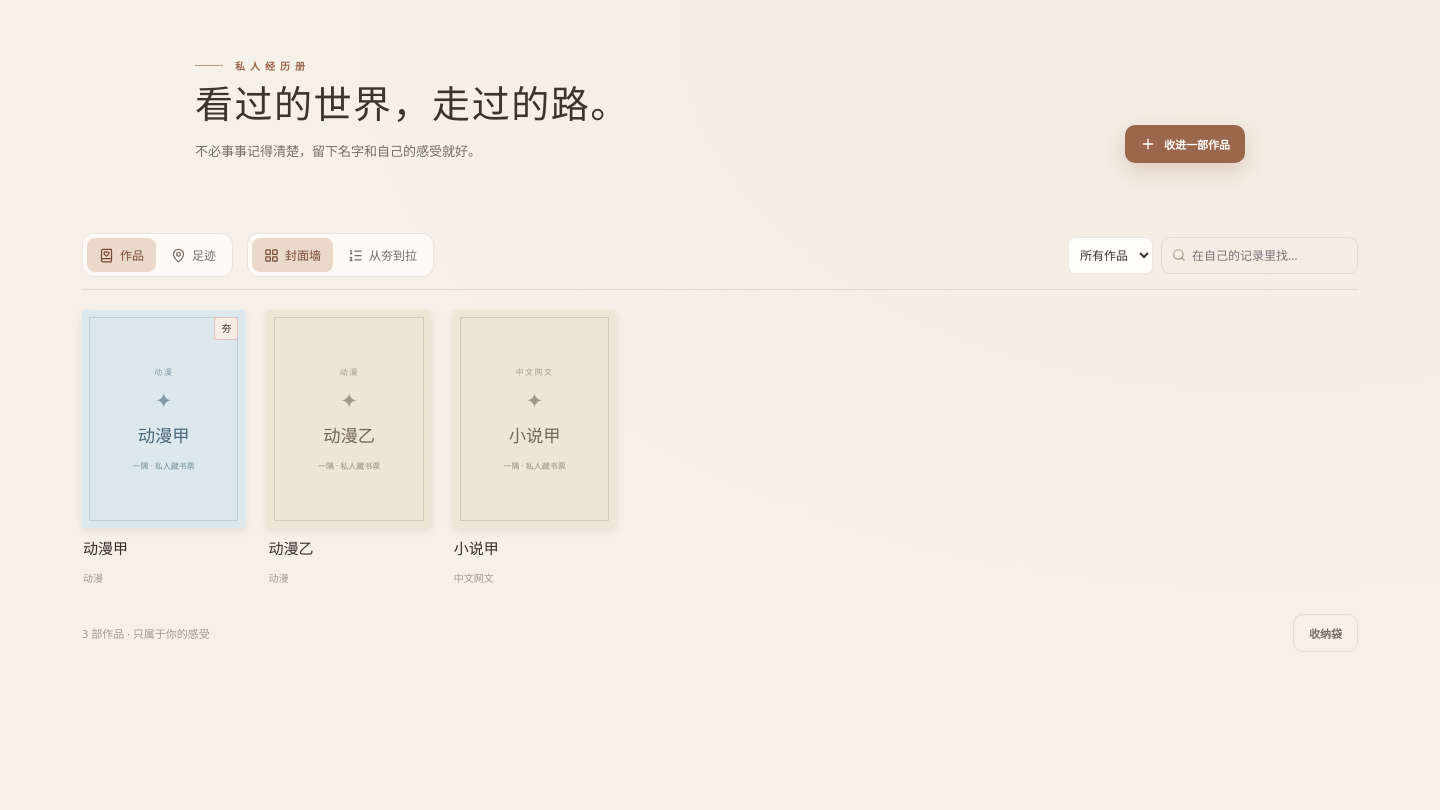
Test: experience paper cards and personal tier board › combines type and text filters in the cover wall and tier board without changing saved entries
Select "动漫" in the dropdown named "筛选作品类别" at (1110, 255), box x1=1068 y1=237 x2=1153 y2=274
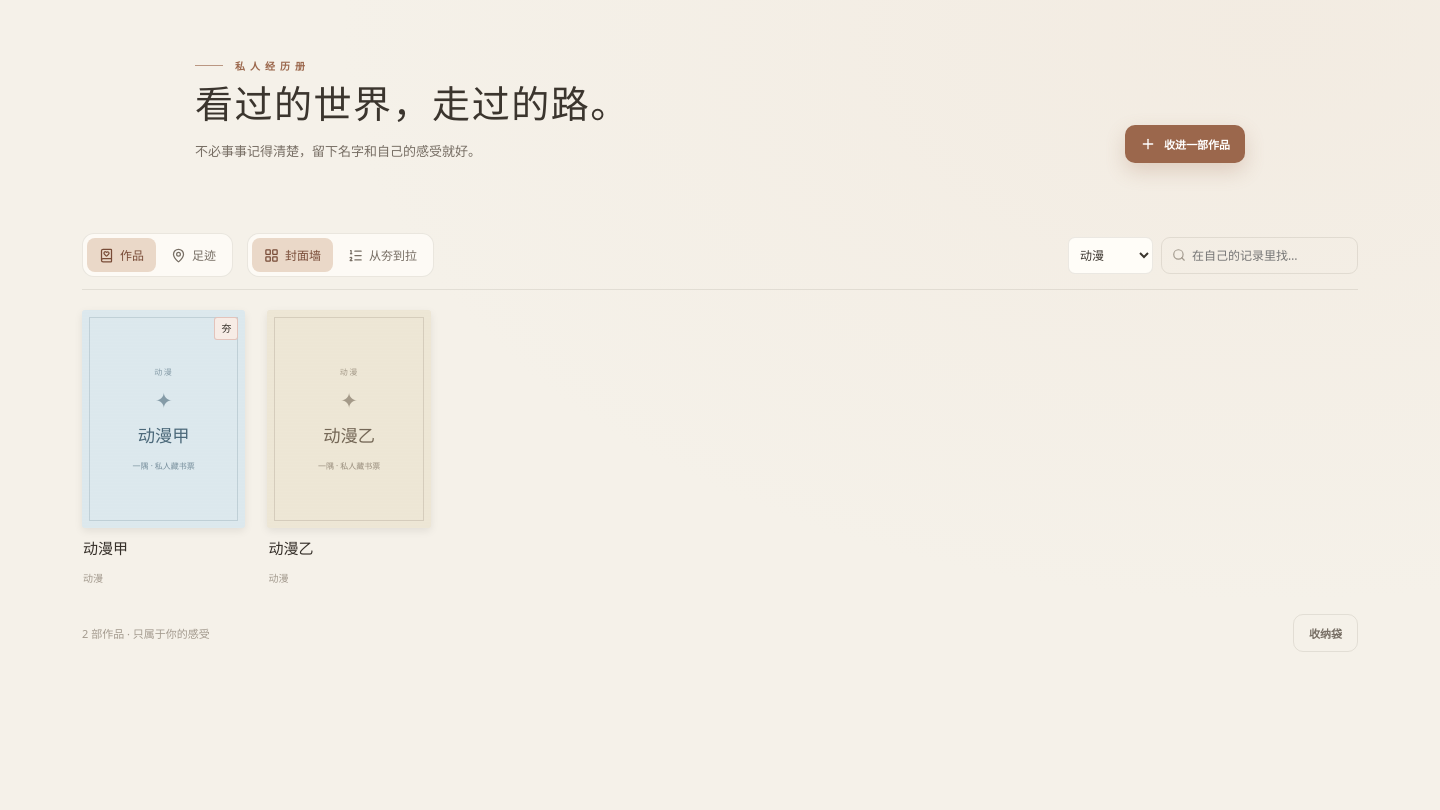
Type "甲" into the field named "搜索经历" at (1270, 255), box x1=1192 y1=238 x2=1347 y2=273
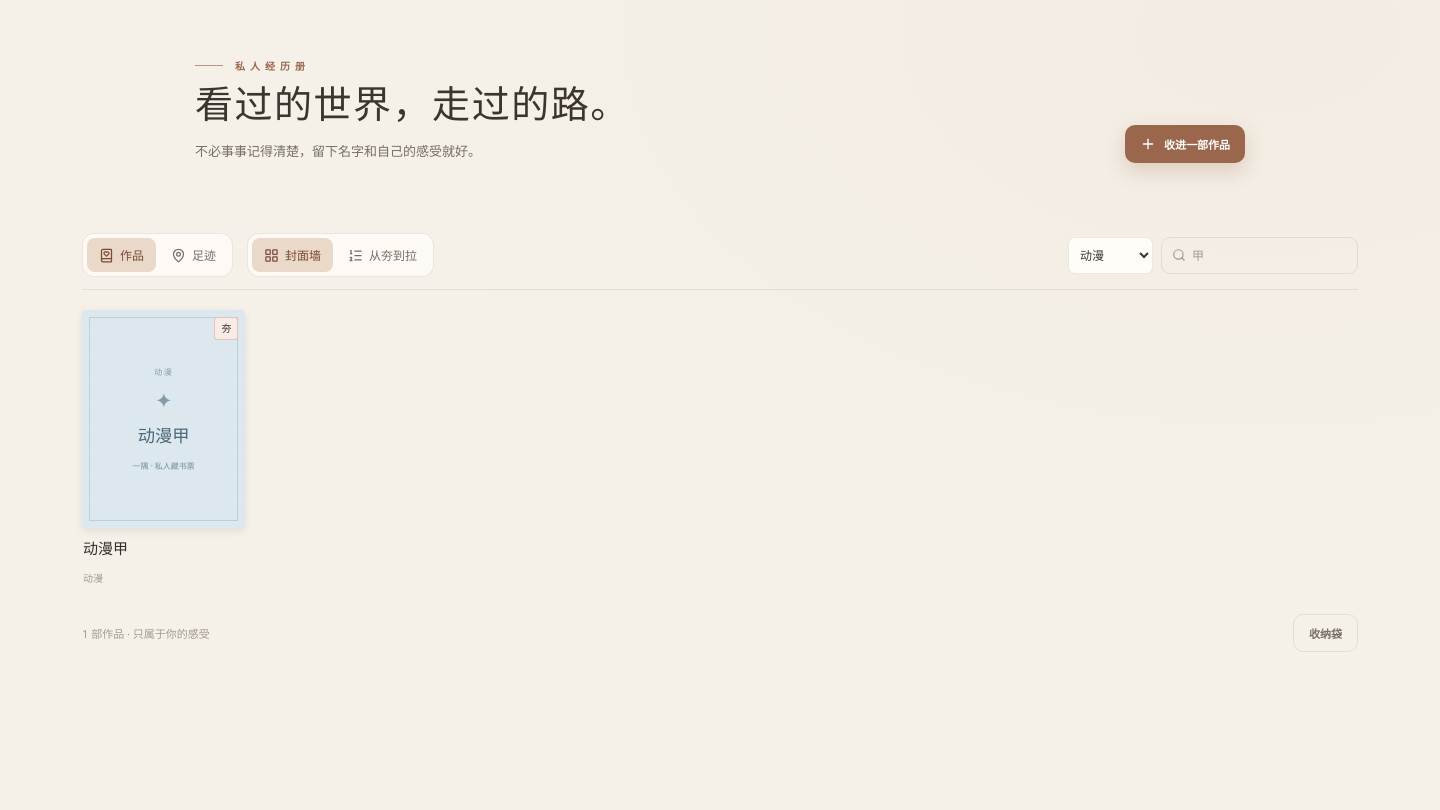
Expected: the button with aria-label "查看动漫甲" is shown, x1=82 y1=310 x2=245 y2=586
Expected: the button "查看动漫乙" is gone
Click the button "从夯到拉" at (382, 255), box x1=336 y1=238 x2=429 y2=272
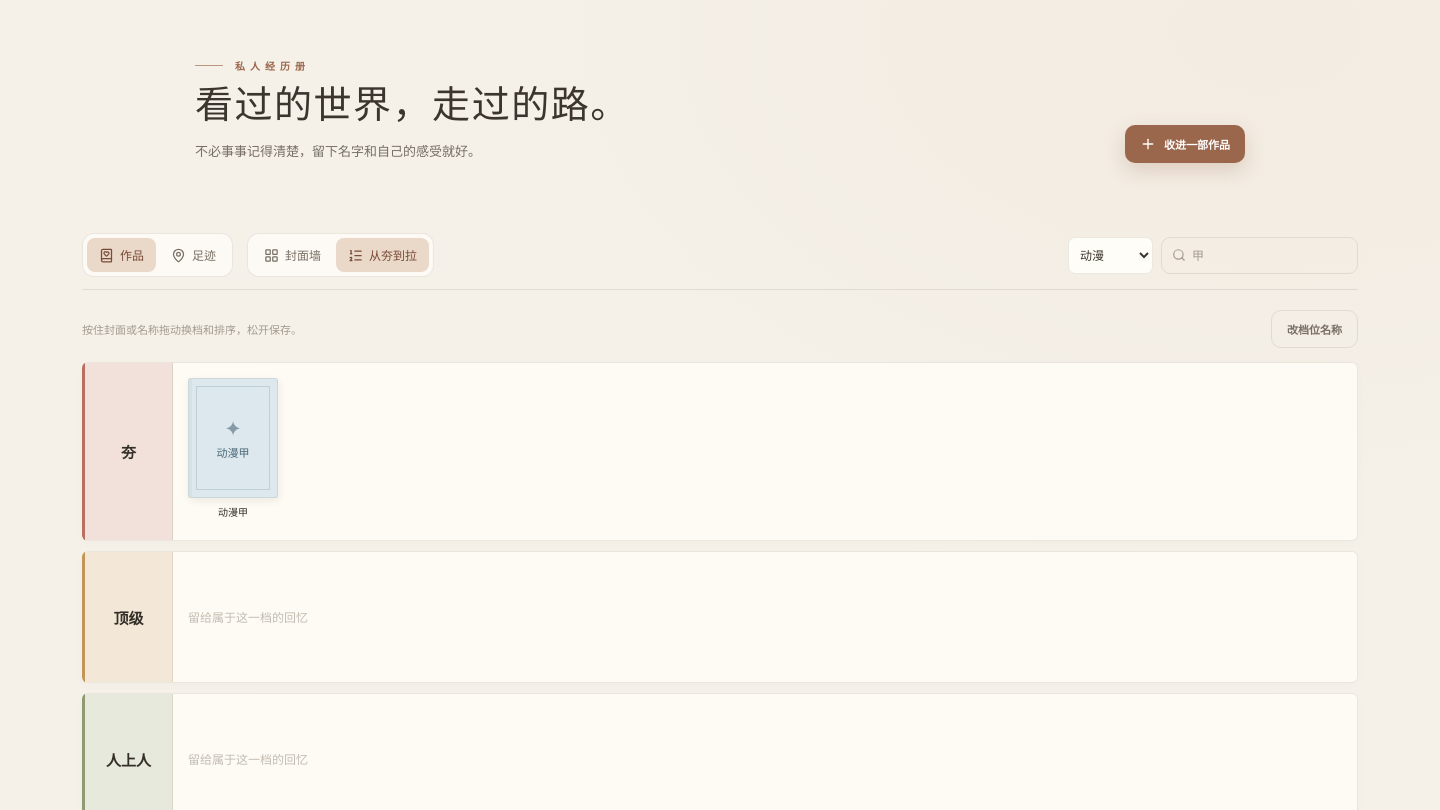
Expected: the button with aria-label "查看动漫甲" is shown, x1=188 y1=378 x2=278 y2=520
Select "电影" in the dropdown named "筛选作品类别" at (1110, 255), box x1=1068 y1=237 x2=1153 y2=274
(page scrolled)
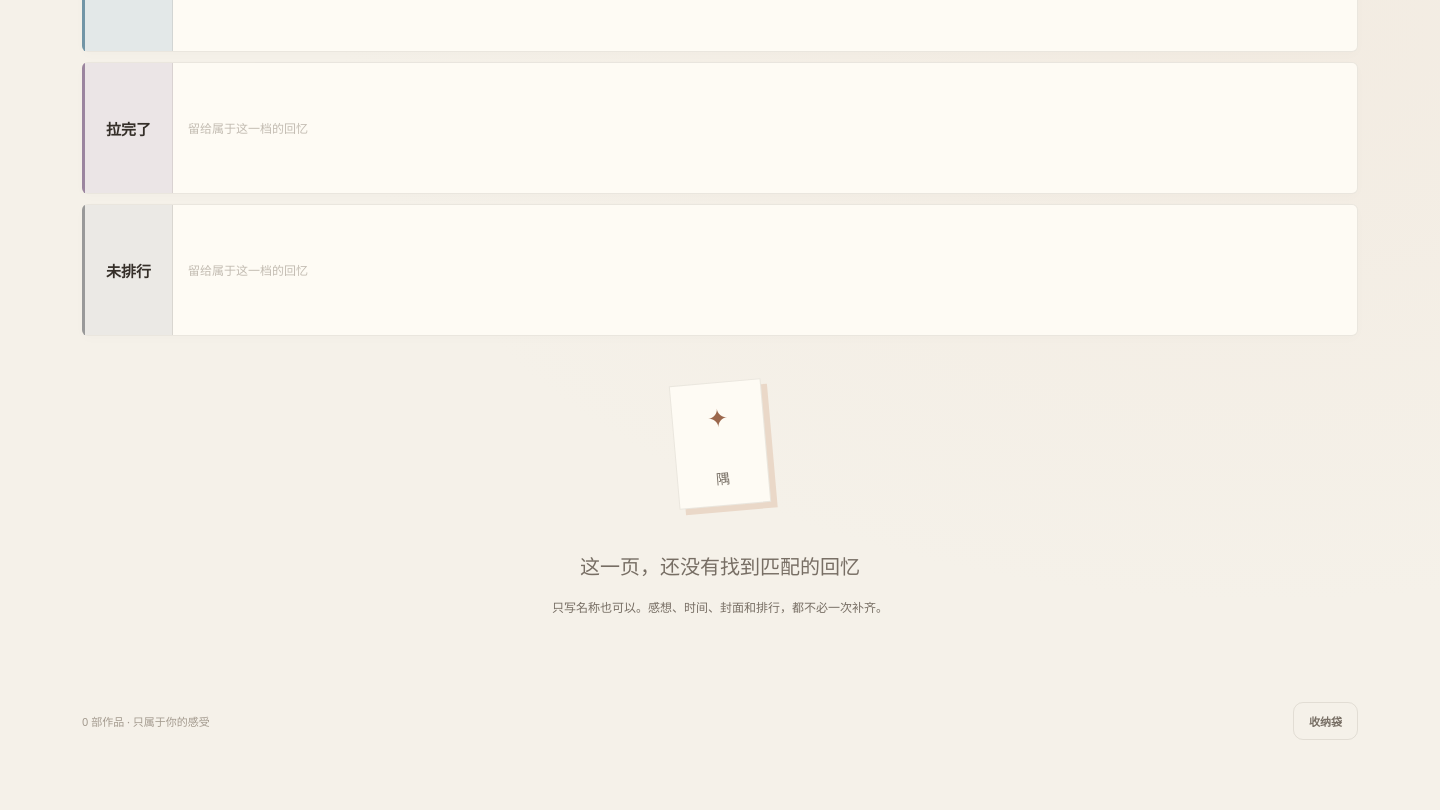
Expected: the heading "这一页，还没有找到匹配的回忆" is shown, x1=580 y1=556 x2=860 y2=578
